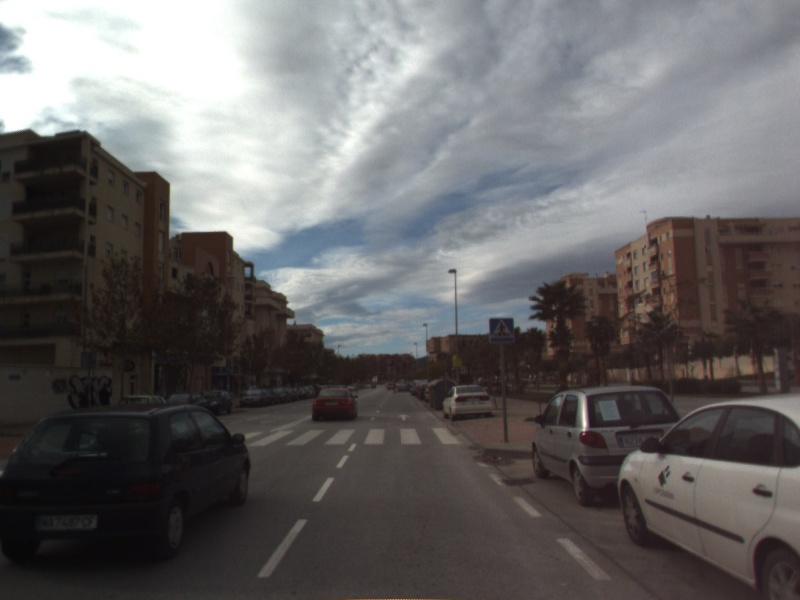STRAIGHT: (395, 412, 413, 422)
